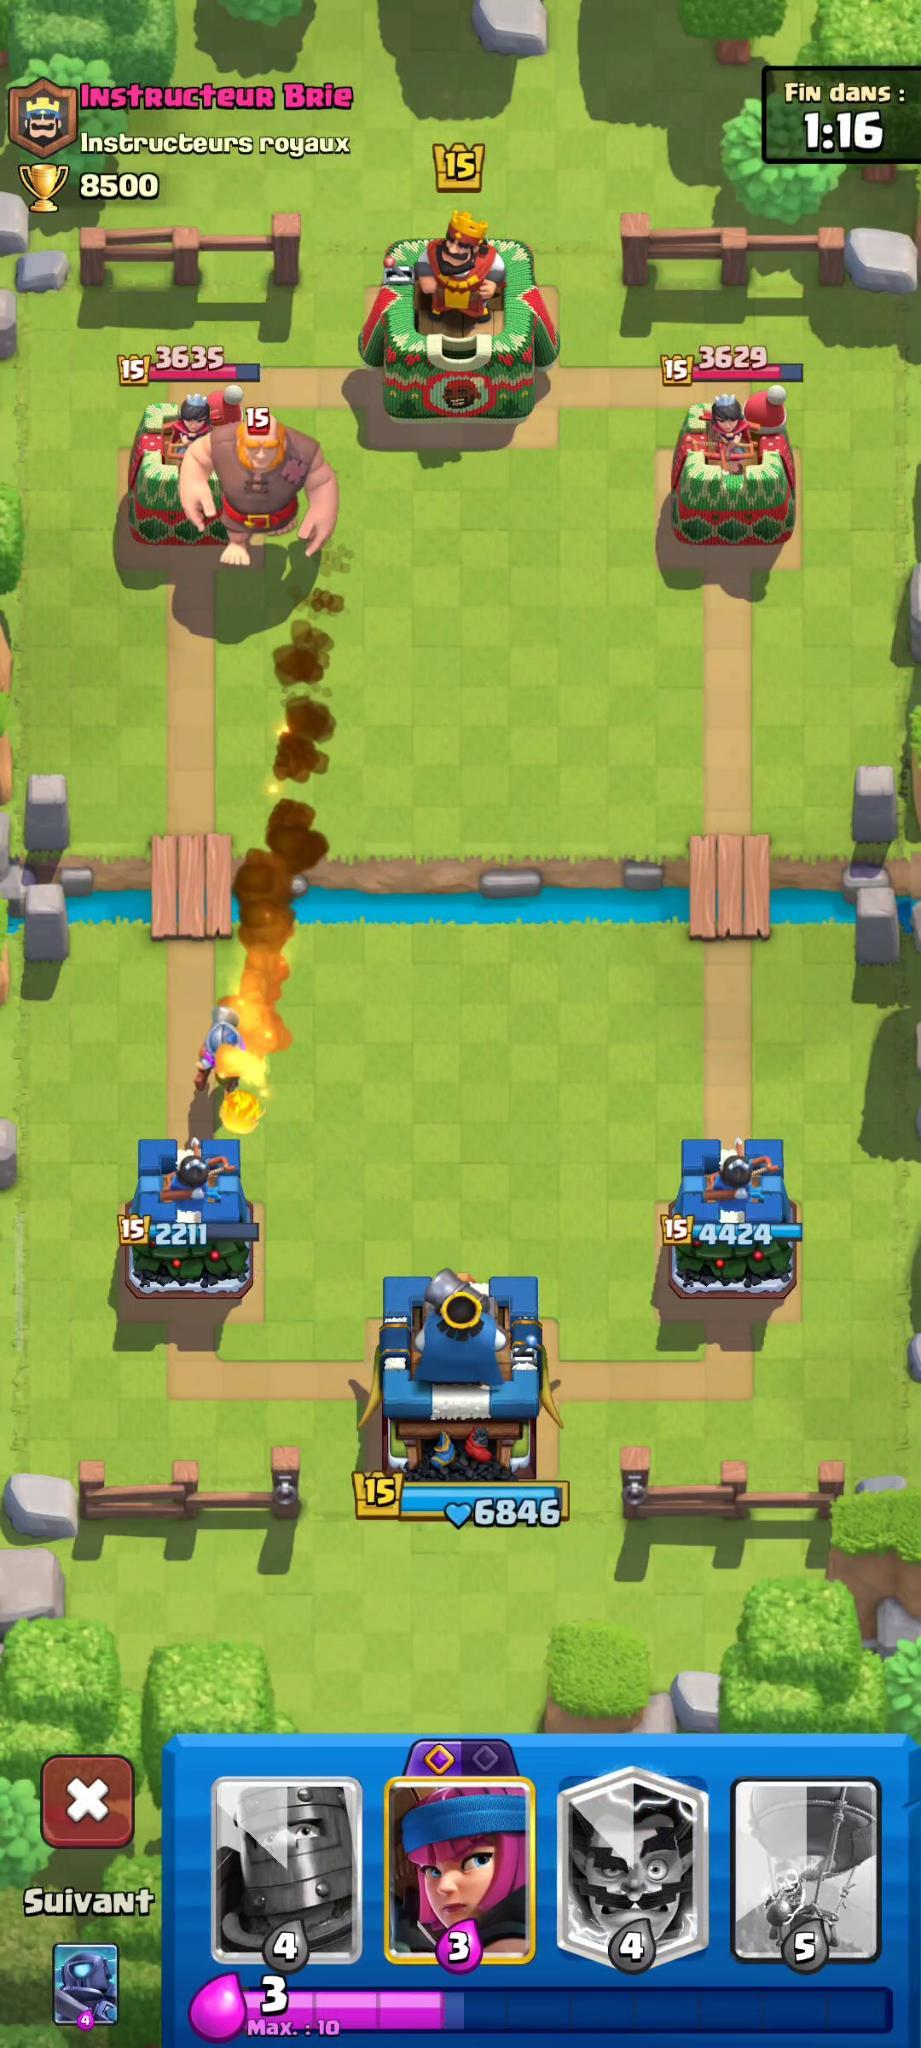enemy_fireball: (208, 589, 362, 1133)
enemy_giant: (175, 394, 343, 578)
player_musketeer: (187, 999, 249, 1101)
